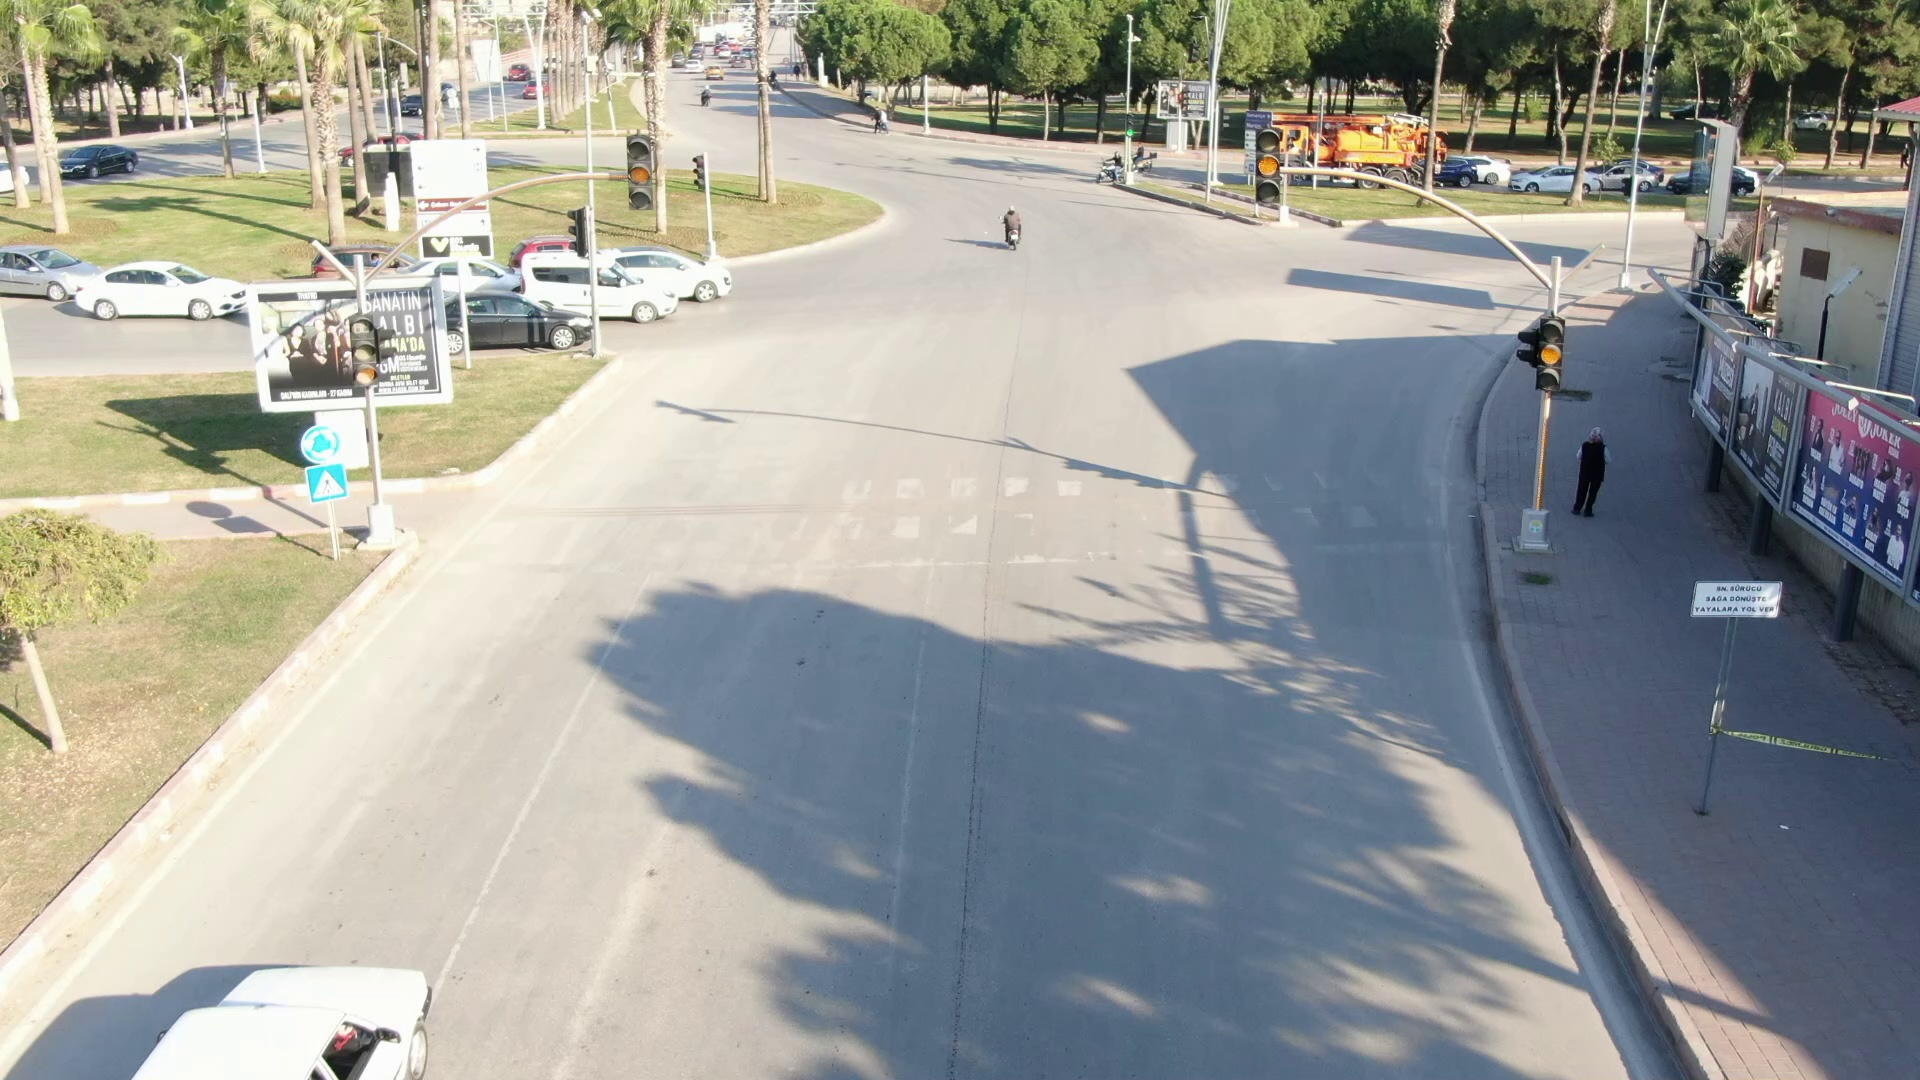car: (128, 943, 465, 1080), (508, 237, 686, 323), (57, 261, 247, 317)
person: (1566, 419, 1615, 529), (992, 198, 1039, 263)
